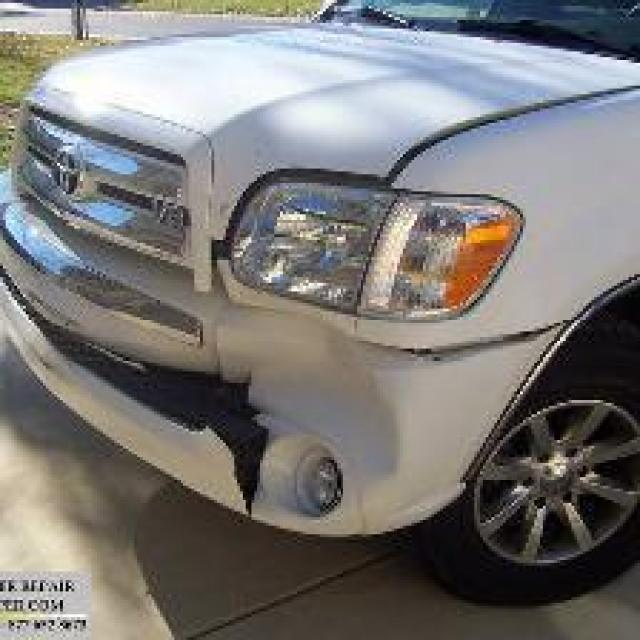damaged: (49, 306, 412, 532)
